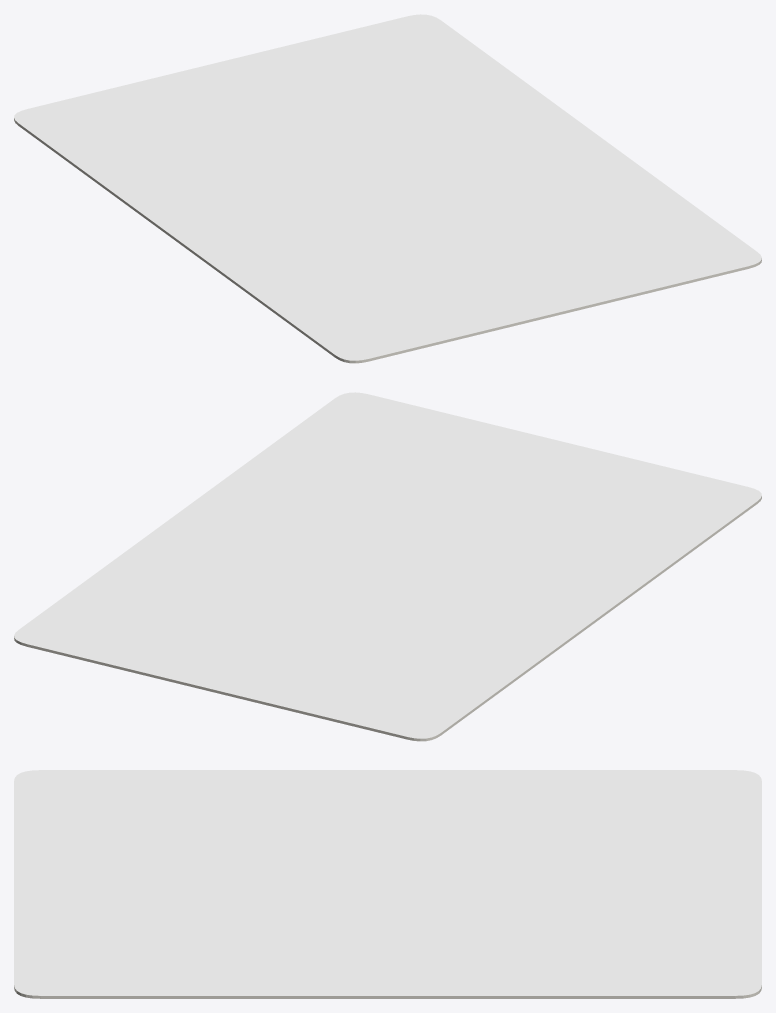
The model's file is bonus_card.glb.
3 renders of one model, top to bottom at view 1: azimuth 30°, elevation 25°; view 2: azimuth 150°, elevation 25°; view 3: azimuth 270°, elevation 25°, orthographic. The views are drawn at different scales.
Parts seen in each view (by area): view 1: CardFace, CardEdge; view 2: CardFace, CardEdge; view 3: CardFace, CardEdge.
Boxes of the visible parts, left/top/right/bottom form: CardFace: left=14, top=14, right=761, bottom=360; CardEdge: left=14, top=118, right=761, bottom=363; CardFace: left=14, top=392, right=761, bottom=738; CardEdge: left=14, top=496, right=761, bottom=741; CardFace: left=14, top=770, right=761, bottom=995; CardEdge: left=14, top=985, right=761, bottom=998.
Size of the model in its own units: 0.108 by 0.00068 by 0.1511.
3 materials, 2 textured.
